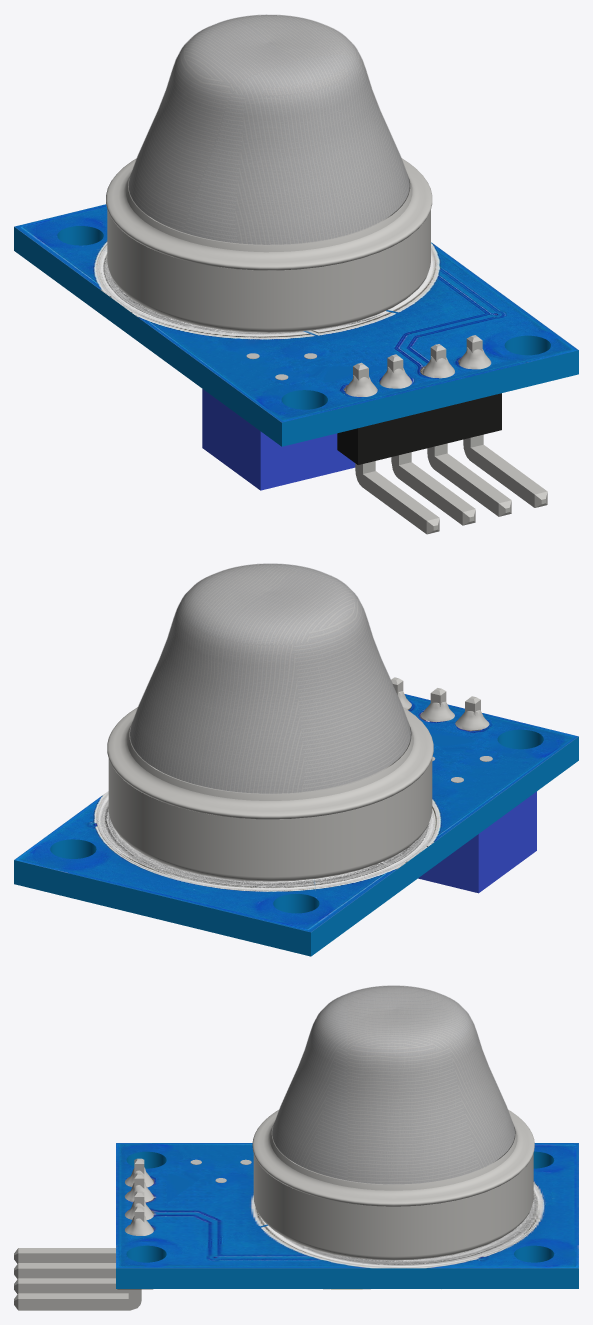
The picture shows the model from 3 angles, top to bottom: view 1: azimuth 30°, elevation 25°; view 2: azimuth 150°, elevation 25°; view 3: azimuth 270°, elevation 25°; orthographic projection. The views are drawn at different scales.
Visible parts, largest first — view 1: sensor, sensor_1, FrontSide, PCB, Body1_3_, Component1_2_, Body1_5_; view 2: sensor, sensor_1, FrontSide, PCB, Component1_2_, Body1_3_; view 3: sensor, sensor_1, FrontSide, PCB, Body1_3_.
Part boxes in pixels (x1,y1,x2,y2): sensor: [106, 14, 432, 332]; sensor_1: [128, 15, 409, 244]; FrontSide: [14, 204, 578, 422]; PCB: [14, 226, 578, 446]; Body1_3_: [345, 335, 547, 534]; Component1_2_: [202, 353, 355, 490]; Body1_5_: [337, 393, 501, 464]; sensor: [107, 563, 433, 881]; sensor_1: [130, 564, 410, 793]; FrontSide: [14, 694, 578, 932]; PCB: [14, 729, 578, 956]; Component1_2_: [418, 756, 536, 893]; Body1_3_: [391, 677, 489, 730]; sensor: [252, 985, 534, 1260]; sensor_1: [272, 986, 514, 1184]; FrontSide: [116, 1143, 578, 1268]; PCB: [116, 1151, 578, 1288]; Body1_3_: [14, 1158, 370, 1310].
Bounding box in the file's own units: 0.0207 × 0.0214 × 0.0394.
11 materials, 3 textured.
